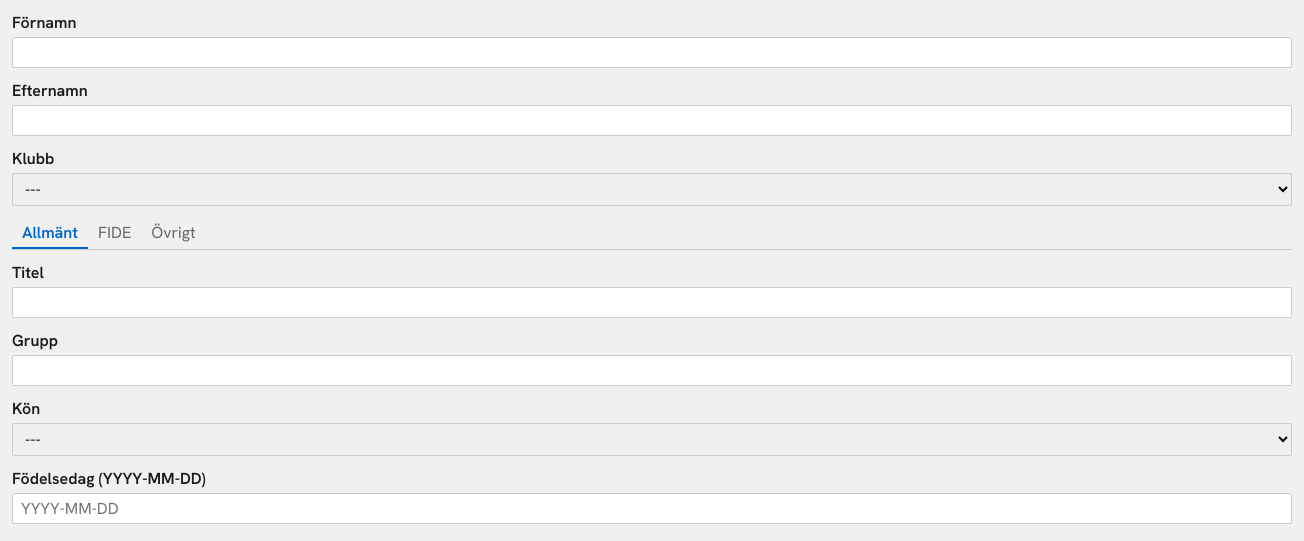
Scenario: PlayerEditor sub-tabs › switches back to main tab
The image size is (1304, 541).
Click the button with test id "editor-tab-fide" at (115, 234), box left=88, top=218, right=141, bottom=249
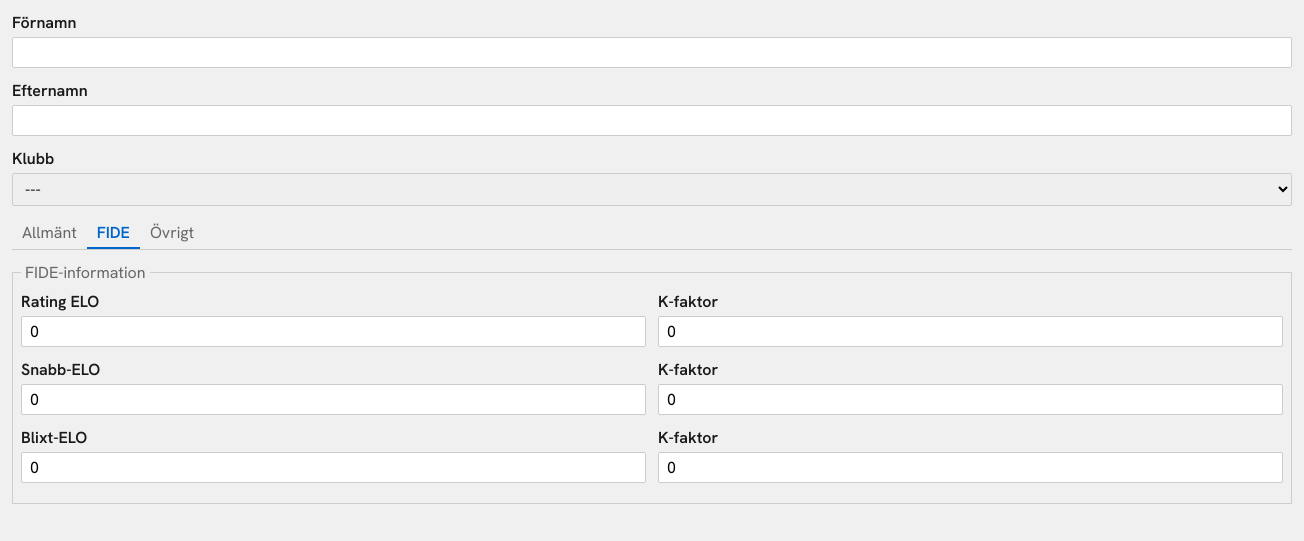
Click the button with test id "editor-tab-main" at (49, 234), box left=12, top=218, right=87, bottom=249
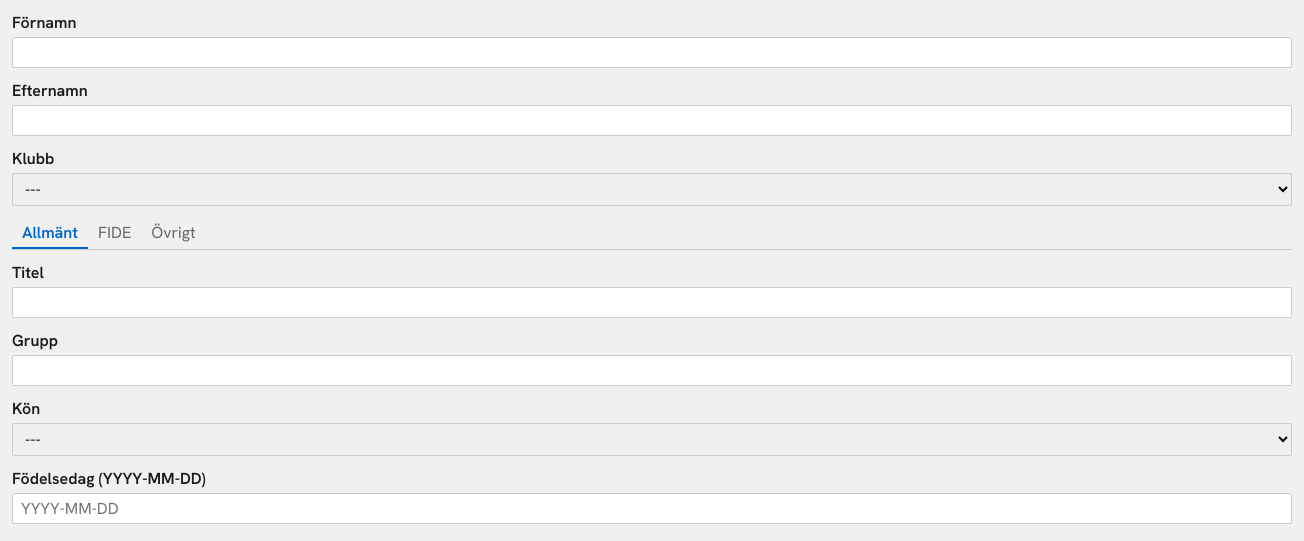
Now the text "Titel" is shown, box left=12, top=262, right=44, bottom=283
Now the text "FIDE-information" is gone
